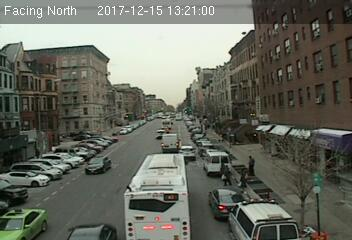bus: (123, 152, 192, 240)
car: (1, 205, 47, 240), (208, 185, 247, 220), (84, 156, 112, 173), (178, 145, 197, 161)
pedestrian: (219, 165, 233, 190), (246, 155, 256, 178)
police: (227, 198, 304, 240)
truck: (204, 152, 231, 175), (161, 134, 179, 152)
